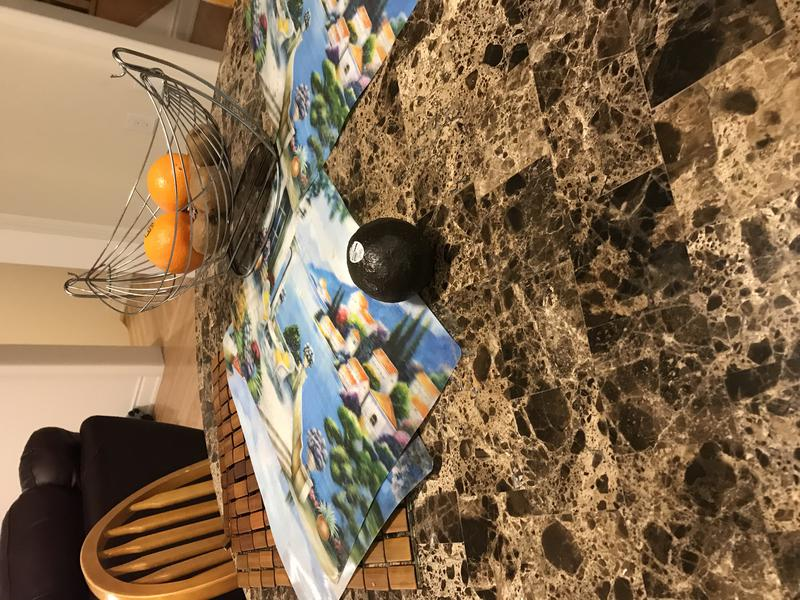avacado: (338, 216, 435, 310)
